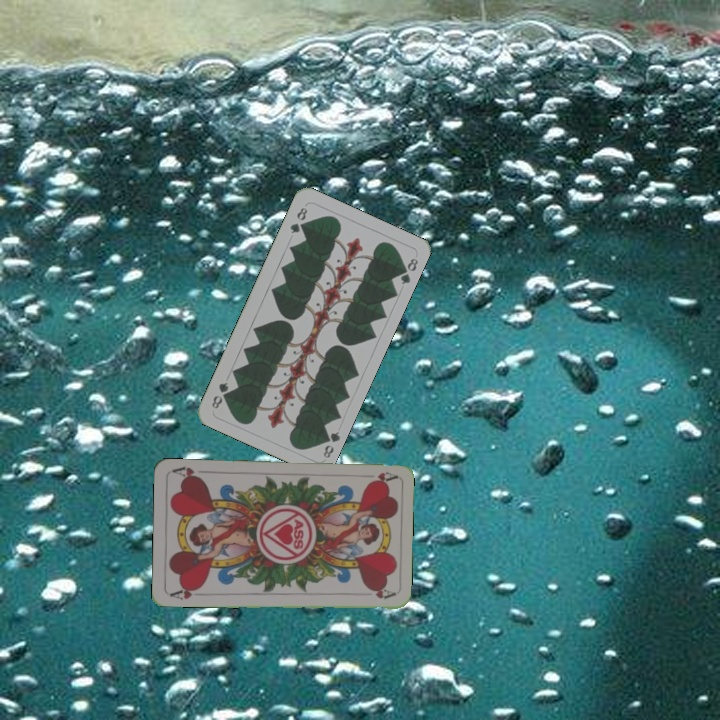G8: (318, 427, 342, 461), (286, 203, 310, 236)
HA: (166, 583, 205, 602), (357, 468, 398, 485)
